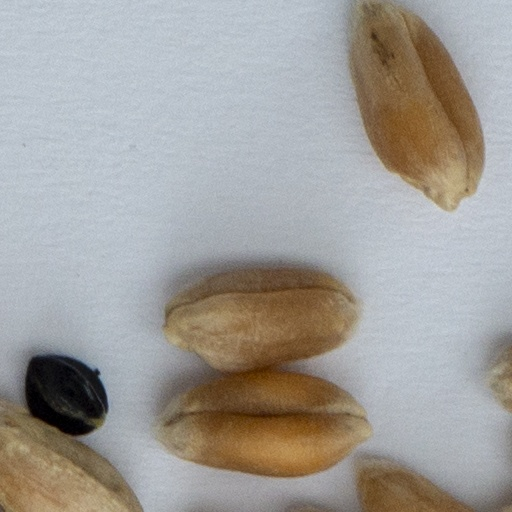Fallopia-Convolvulus-poly: (23, 357, 106, 434)
